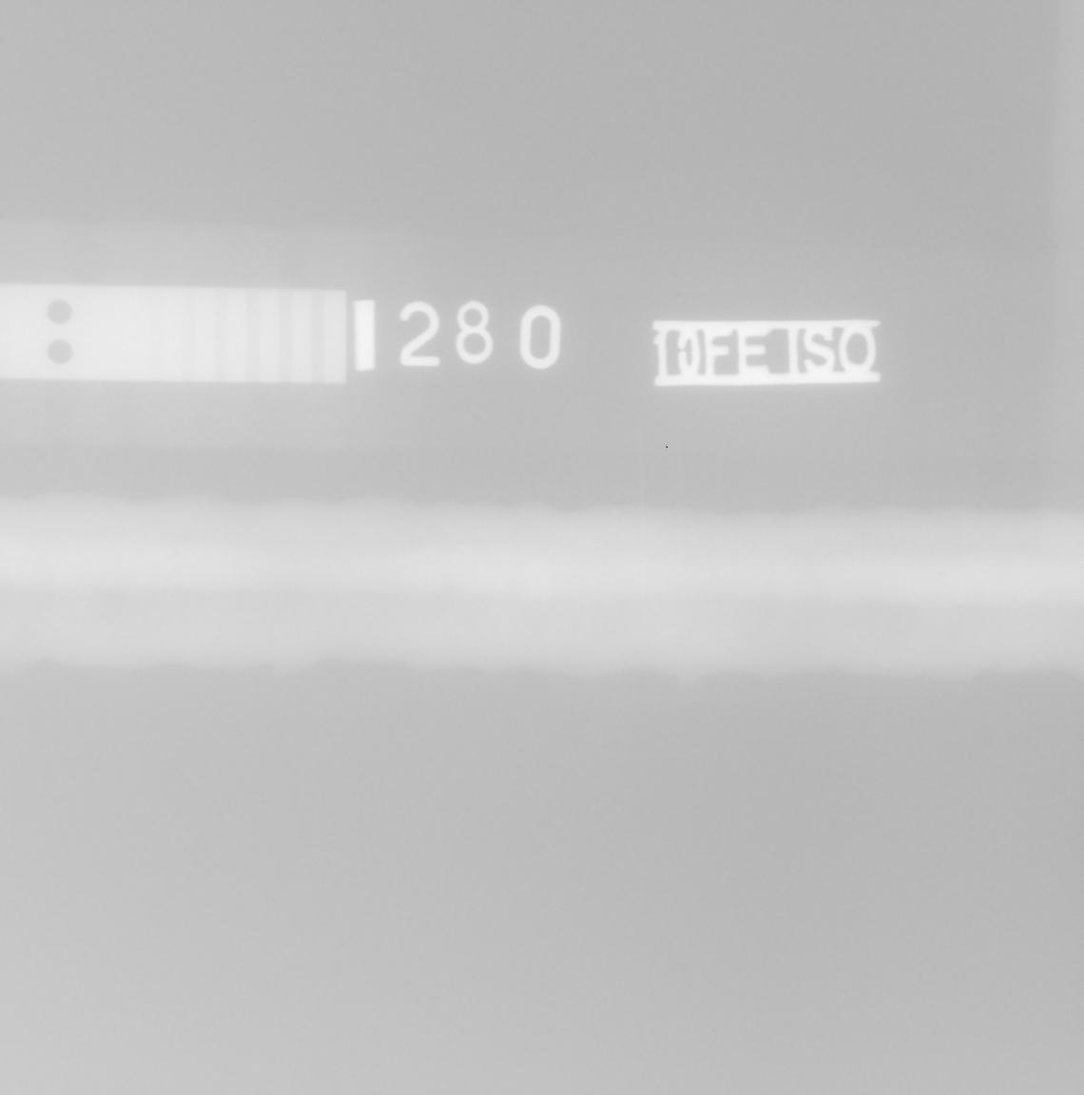Inclusion: (178, 526, 191, 544), (1046, 607, 1054, 622), (1056, 603, 1067, 613), (172, 549, 182, 556), (937, 570, 945, 577)
Pore/Porosity: (162, 584, 178, 600), (162, 578, 168, 583)
